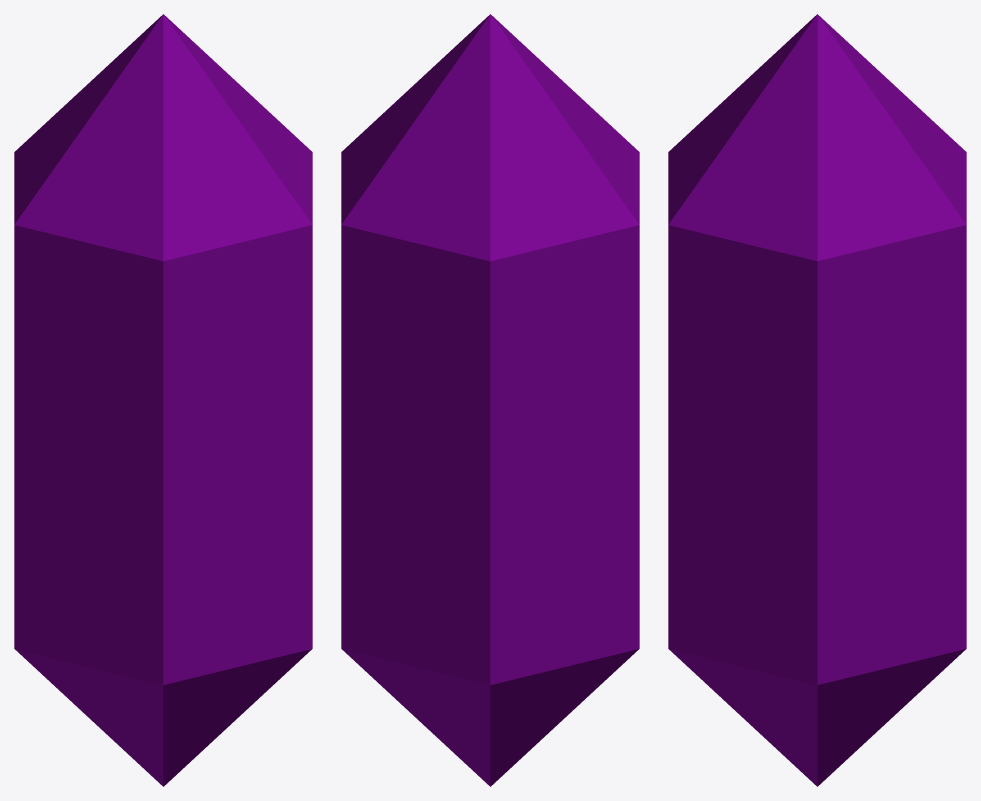
The model's file is Amethyst.fbx.
3 renders of one model, left to right at view 1: azimuth 30°, elevation 25°; view 2: azimuth 150°, elevation 25°; view 3: azimuth 270°, elevation 25°, orthographic.
Parts seen in each view (by area): view 1: Amethyst; view 2: Amethyst; view 3: Amethyst.
Part boxes in pixels (x1,y1,x2,y2): Amethyst: (14, 14, 312, 786); Amethyst: (341, 14, 639, 786); Amethyst: (668, 14, 966, 786).
Size of the model in its own units: 0.5976 by 1.48 by 0.5175.
